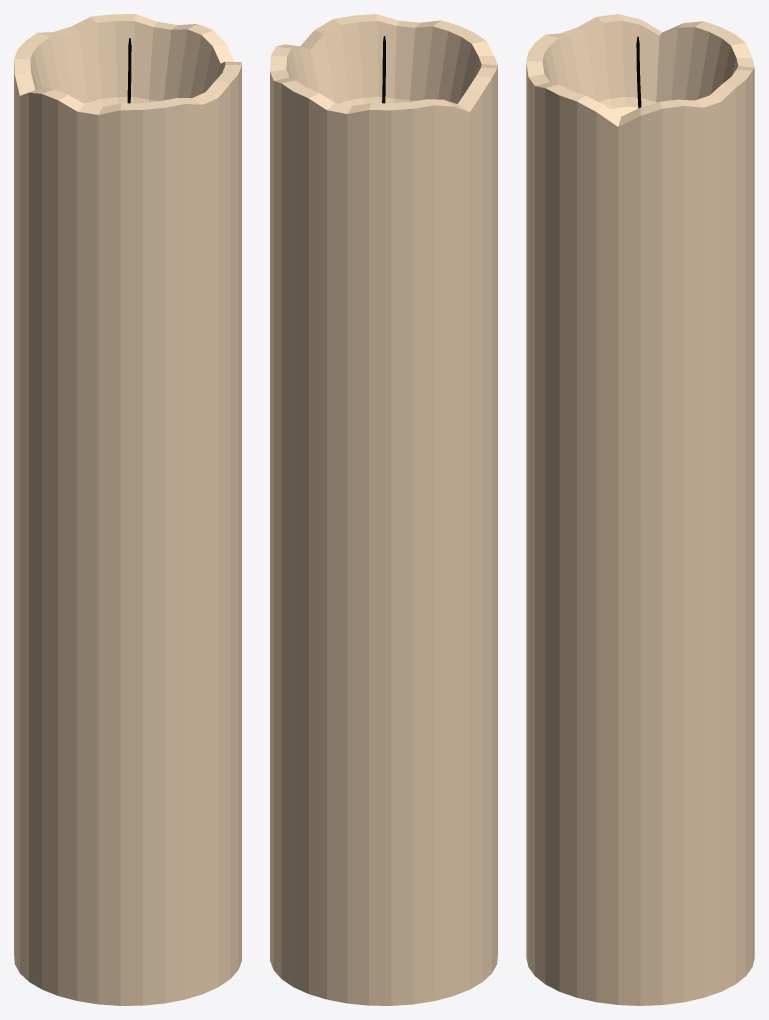
The model's file is Candle_005.fbx.
3 views of the same model, side by side, from view 1: azimuth 30°, elevation 25°; view 2: azimuth 150°, elevation 25°; view 3: azimuth 270°, elevation 25° (orthographic).
Visible parts, largest first — view 1: Candle.005; view 2: Candle.005; view 3: Candle.005.
Boxes of the visible parts, x1=… form: Candle.005: x1=14, y1=14, x2=241, y2=1005; Candle.005: x1=270, y1=14, x2=497, y2=1005; Candle.005: x1=526, y1=14, x2=754, y2=1005.
Size of the model in its own units: 10 by 44.47 by 10.
